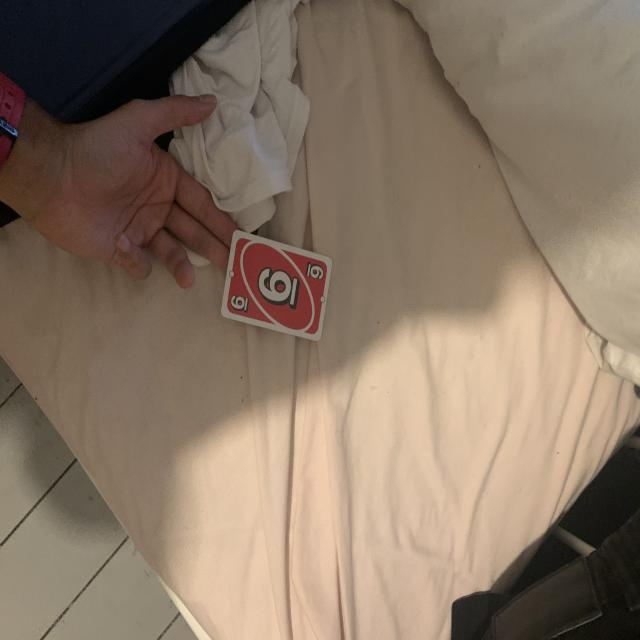lred-6: (305, 261, 326, 284)
